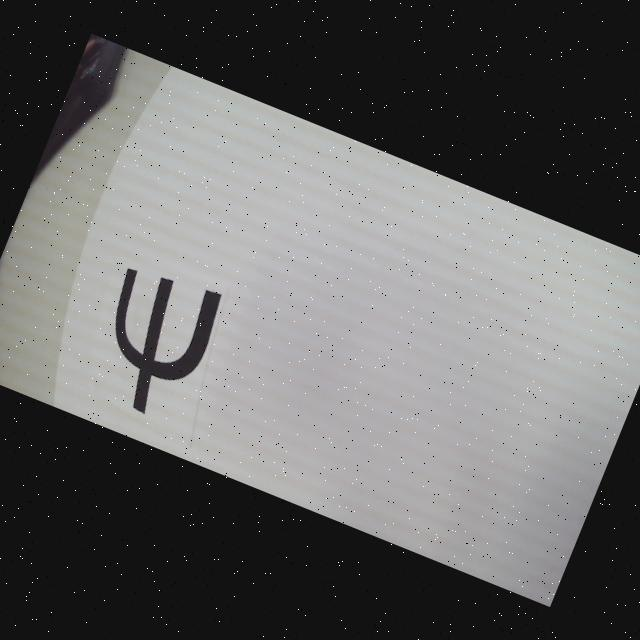PSI: (78, 257, 228, 428)
